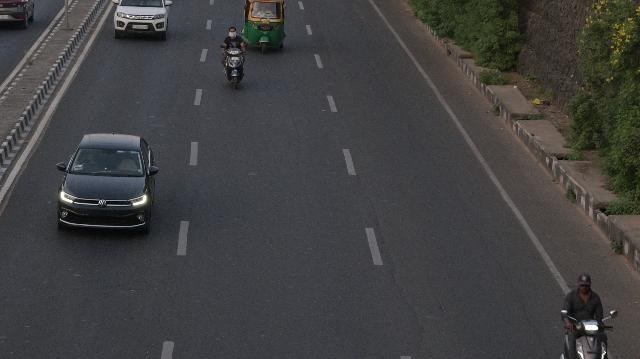Without Helmet: (576, 271, 592, 295), (226, 26, 238, 40)
